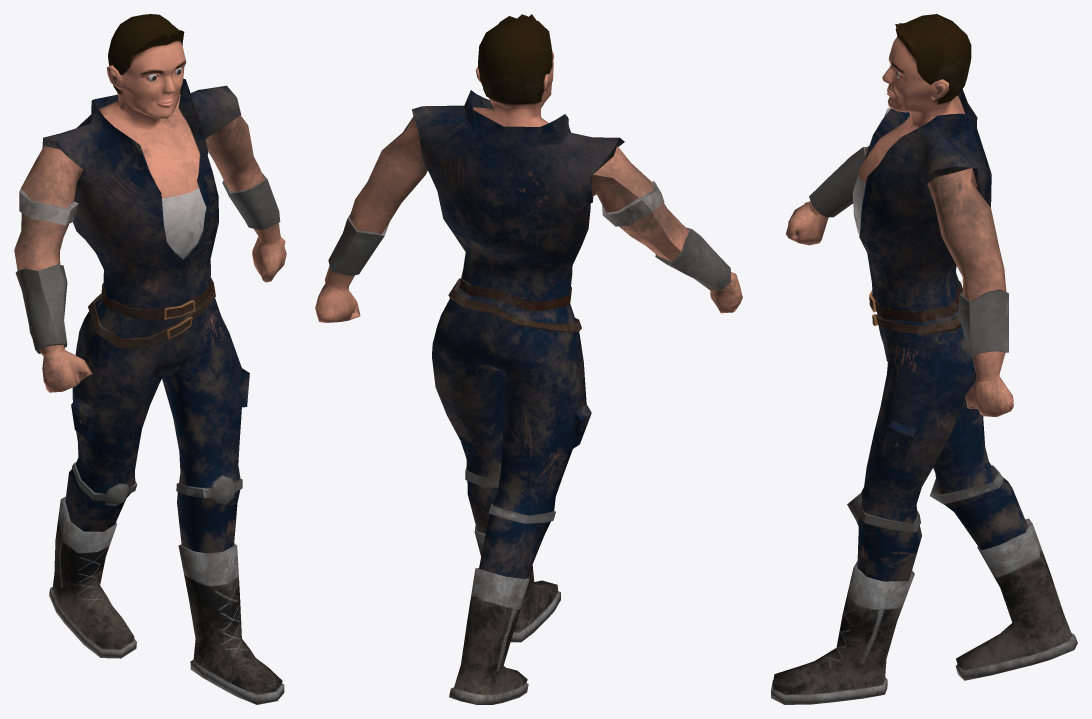
File: Anim_andar_jugador.0034.obj
3 views of the same model, side by side, from view 1: azimuth 30°, elevation 25°; view 2: azimuth 150°, elevation 25°; view 3: azimuth 270°, elevation 25° (orthographic). The views are drawn at different scales.
Visible parts, largest first — view 1: Anim_andar_jugador; view 2: Anim_andar_jugador; view 3: Anim_andar_jugador.
Part boxes in pixels (bbox=[...]): Anim_andar_jugador: bbox=[14, 14, 286, 704]; Anim_andar_jugador: bbox=[315, 14, 742, 704]; Anim_andar_jugador: bbox=[771, 14, 1077, 704].
Size of the model in its own units: 5.14 by 9.66 by 4.06.
2 materials, 2 textured.
